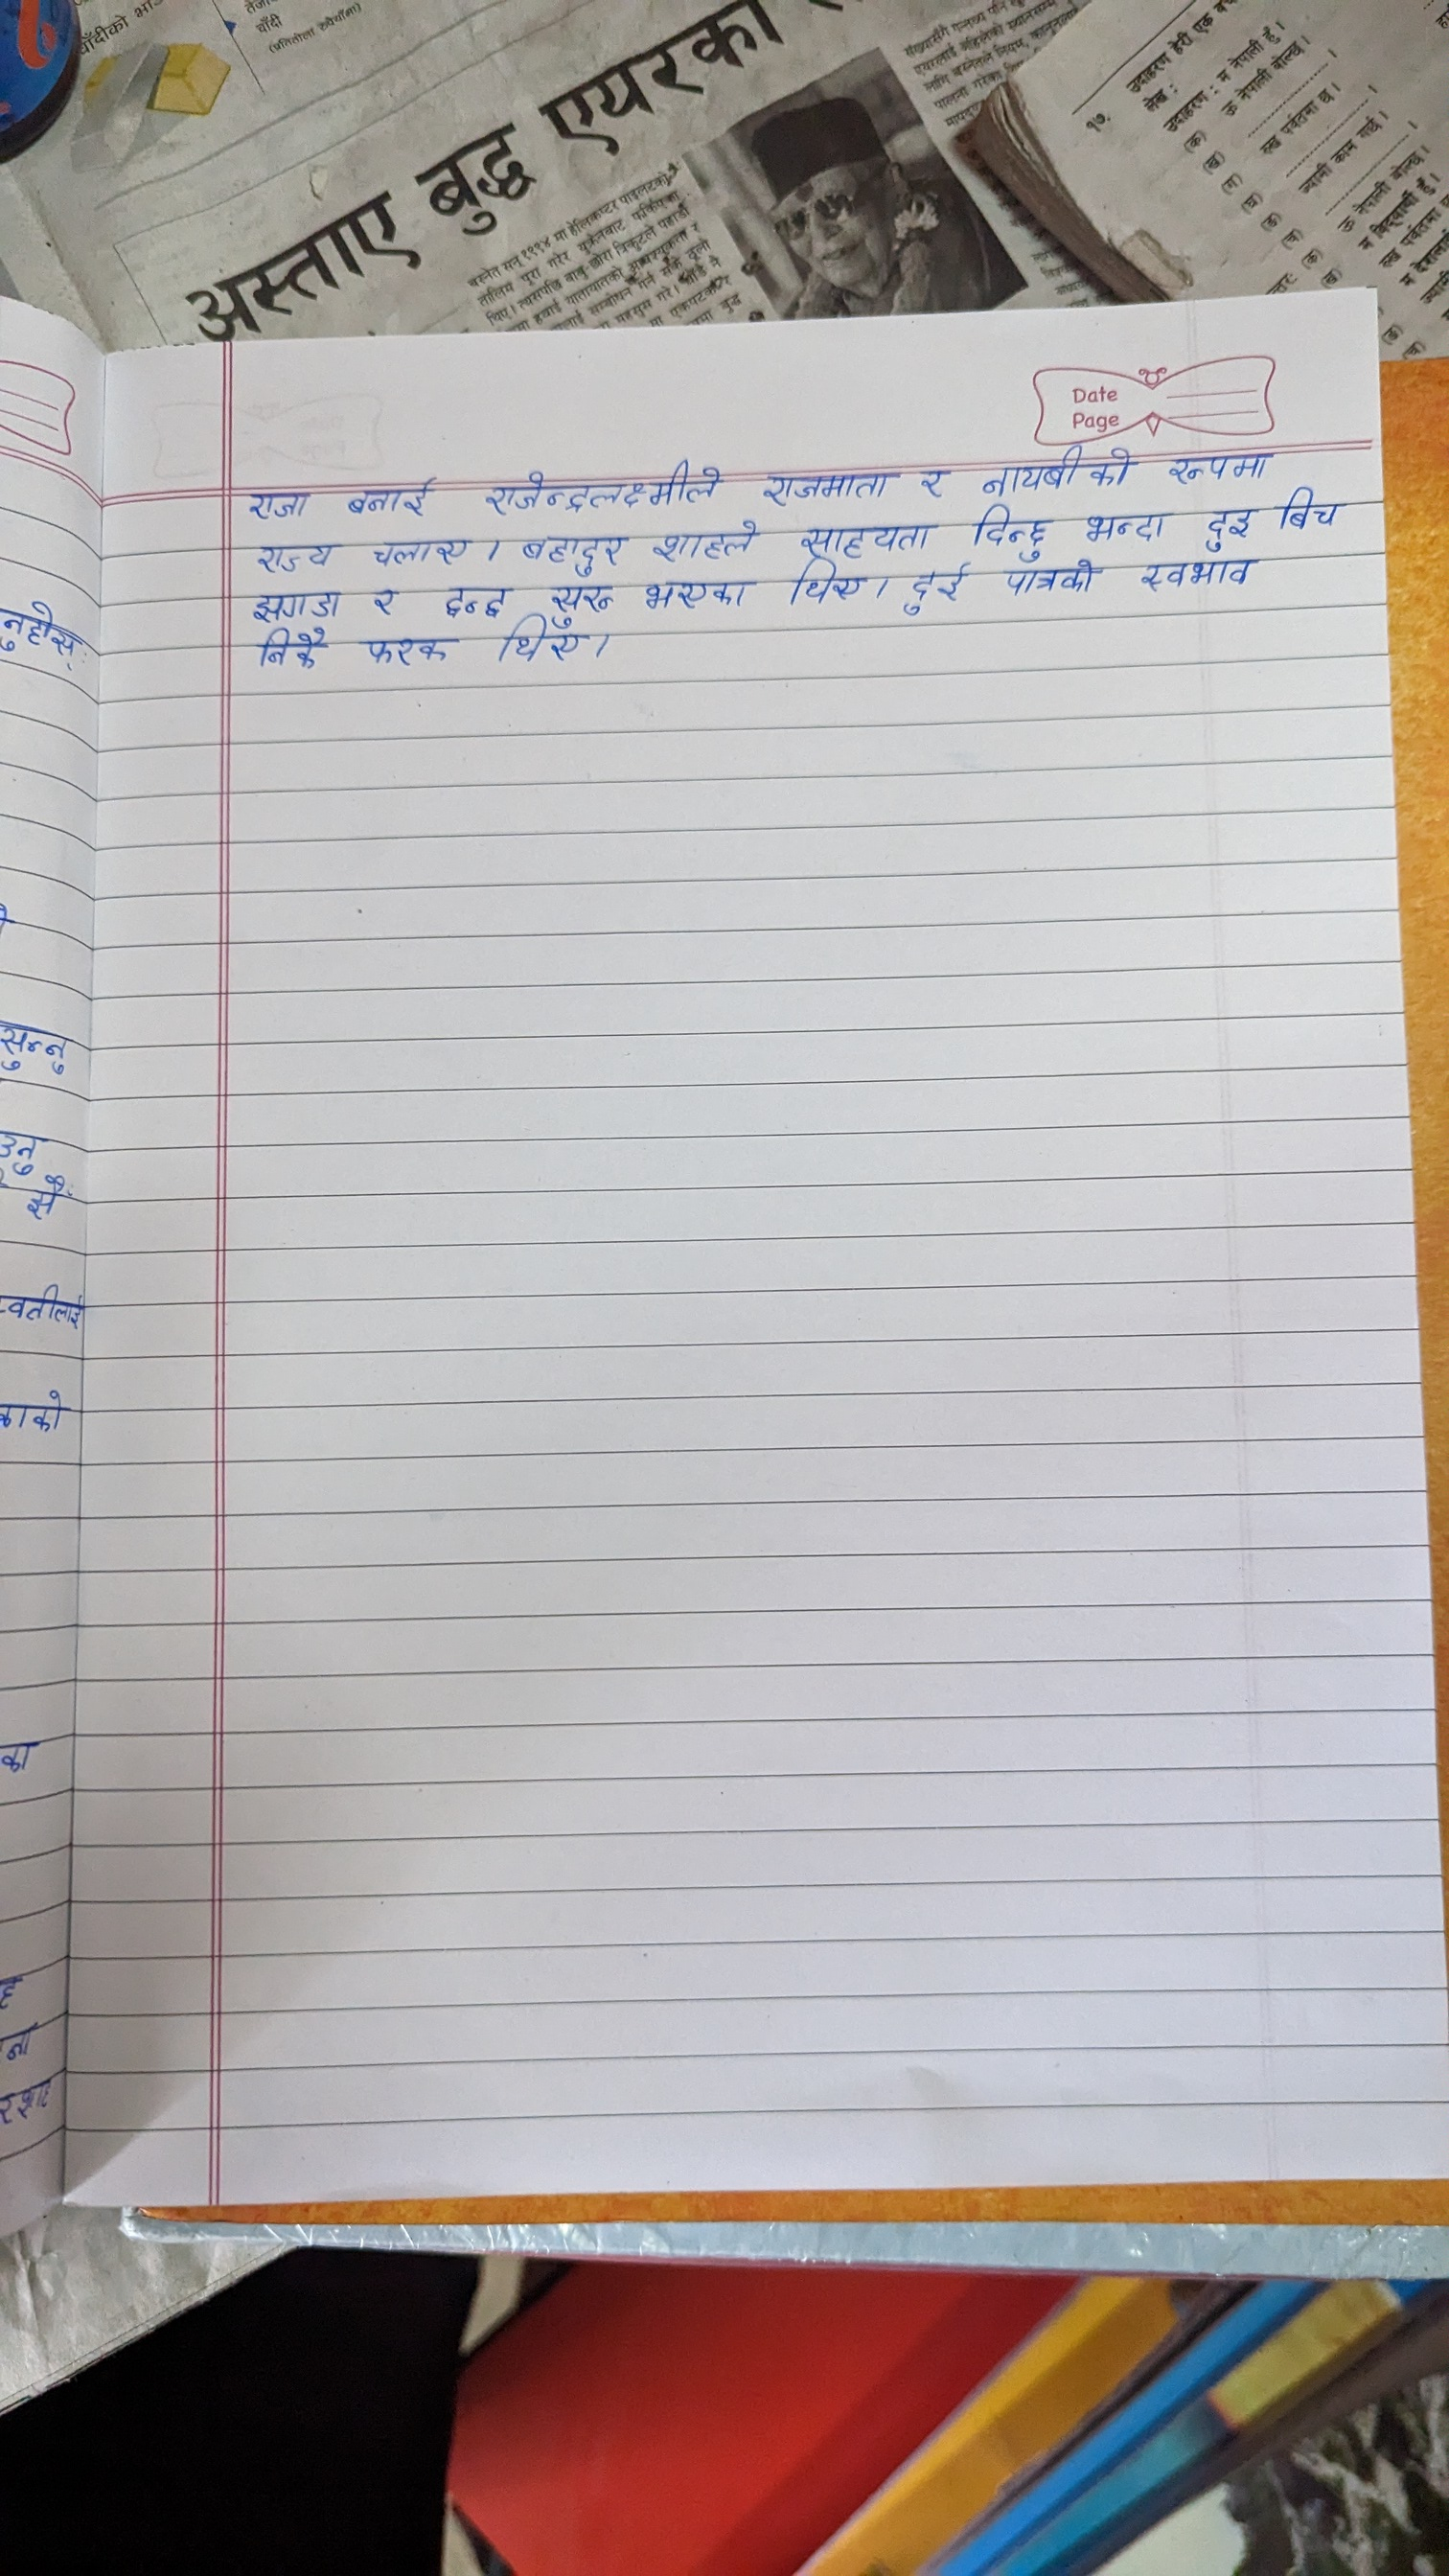text: (479, 460, 722, 515), (980, 442, 1139, 499), (794, 520, 945, 557), (513, 525, 630, 573), (648, 520, 763, 568), (1131, 557, 1260, 600), (755, 471, 902, 506), (787, 561, 878, 617), (975, 501, 1063, 557), (354, 531, 481, 570), (639, 571, 748, 614), (1159, 444, 1269, 487), (1001, 561, 1109, 603), (901, 563, 973, 621), (1277, 485, 1350, 543), (345, 478, 439, 522), (248, 580, 341, 625), (1189, 495, 1261, 552), (255, 626, 329, 672), (1077, 508, 1169, 545), (501, 625, 577, 669), (428, 580, 515, 617), (538, 579, 625, 616), (241, 487, 318, 522), (251, 538, 329, 573), (366, 635, 444, 671), (363, 584, 405, 621), (913, 465, 955, 501)
